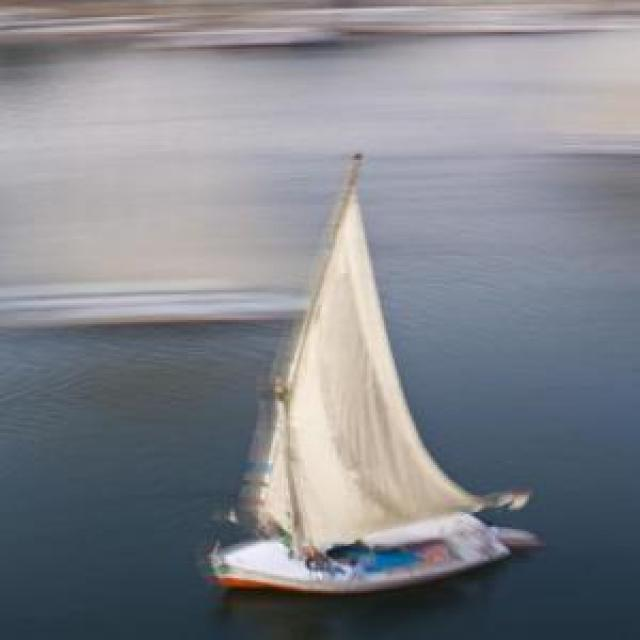sailboat: (189, 150, 523, 593)
